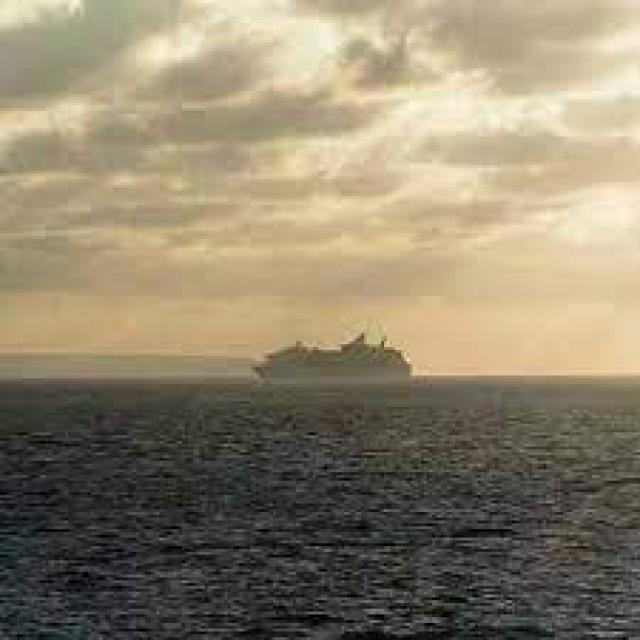cargoship: (238, 322, 426, 380)
